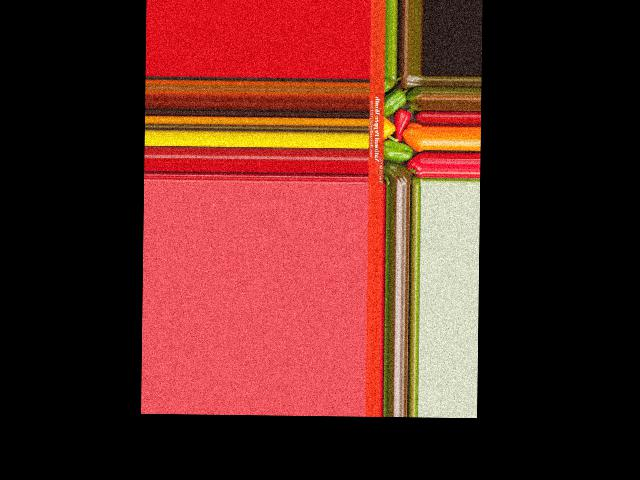bell_pepper: (382, 162, 411, 184)
